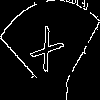X: (25, 25, 64, 81)
